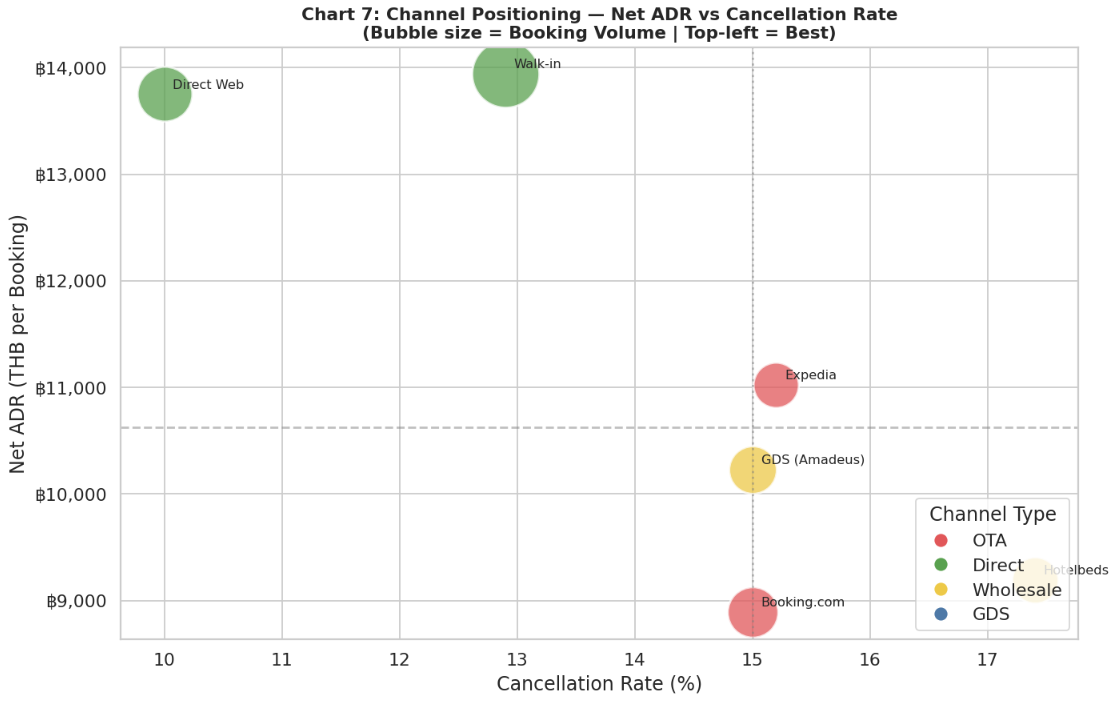

This screenshot's page, from the dashboard's own definition file:
{"tool":"powerbi","page":{"name":"Page 5","canvas":[1280,720],"ordinal":4},"visuals":[{"type":"scatterChart","fields":{"Category":["dim_channels (1).channel_name"],"X":["fact_bookings (1).Cancel Rate"],"Y":["fact_bookings (1).Net ADR"],"Size":["fact_bookings (1).Bookings Count"],"Series":["dim_channels (1).channel_type"]},"box":[147.2,51.4,1063.7,612.4],"z":0}]}

Visuals, with their boxes on the page's 1280x720 design canvas (x1, y1, x2, y2). These are canvas units, not pixel positions in the 1118x703 screenshot, which may show the page scaled, cropped or inside an application window:
scatterChart - dim_channels (1).channel_name x fact_bookings (1).Cancel Rate: bbox=[147, 51, 1211, 664]
